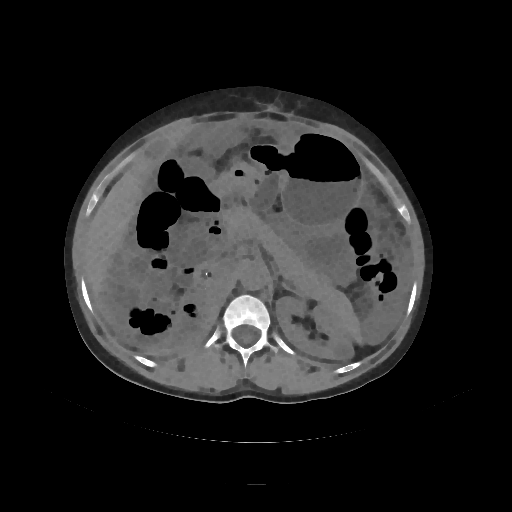Lesion: (331, 336, 356, 363)
